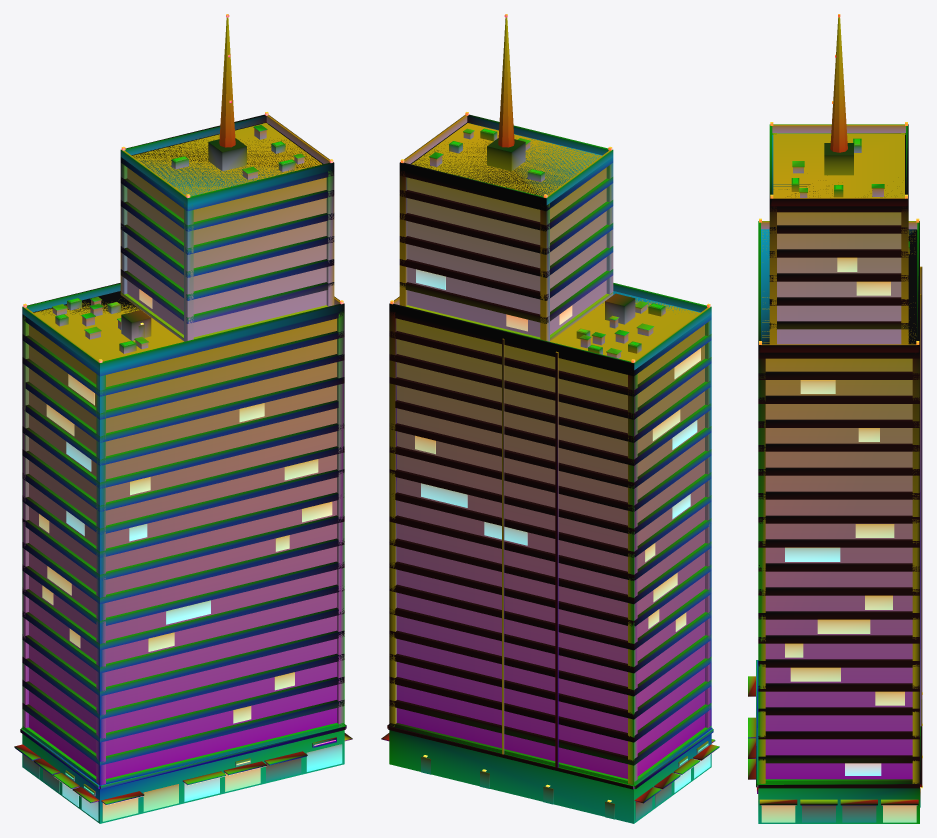
The model's file is Tower_Slab_V3.fbx.
3 views of the same model, side by side, from view 1: azimuth 30°, elevation 25°; view 2: azimuth 150°, elevation 25°; view 3: azimuth 270°, elevation 25° (orthographic). The views are drawn at different scales.
Visible parts, largest first — view 1: Tower_Slab_V3_LOD0; view 2: Tower_Slab_V3_LOD0; view 3: Tower_Slab_V3_LOD0.
Part boxes in pixels (x1,y1,x2,y2): Tower_Slab_V3_LOD0: [14, 14, 352, 823]; Tower_Slab_V3_LOD0: [381, 14, 719, 823]; Tower_Slab_V3_LOD0: [748, 14, 922, 823].
Size of what is drawn, in the model's own units: 42.8 by 116 by 23.8.
